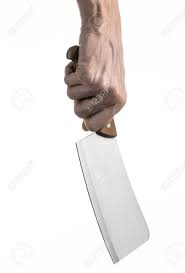knife: (58, 37, 159, 265)
